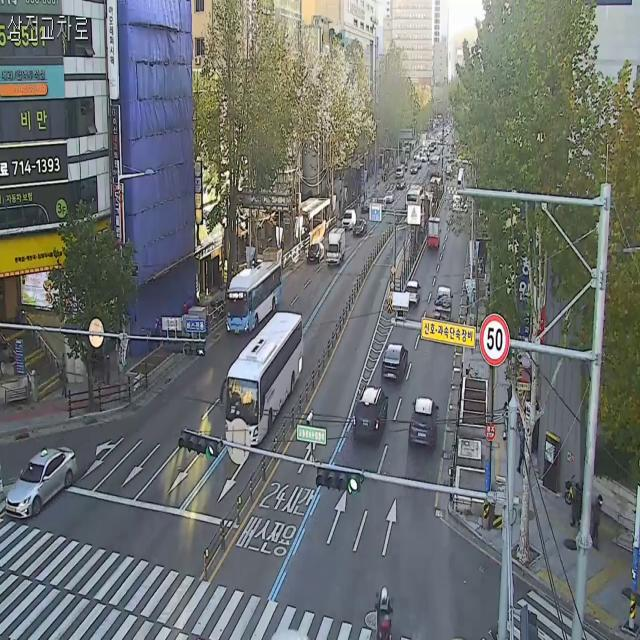bus: (375, 583, 393, 640)
car: (220, 307, 306, 447), (225, 260, 284, 336)
motorcycle: (5, 441, 78, 521), (353, 384, 387, 446), (408, 390, 438, 451), (380, 342, 411, 384), (340, 202, 359, 233), (306, 241, 325, 266)
truck: (324, 222, 346, 270), (433, 281, 453, 318), (426, 215, 442, 247)
